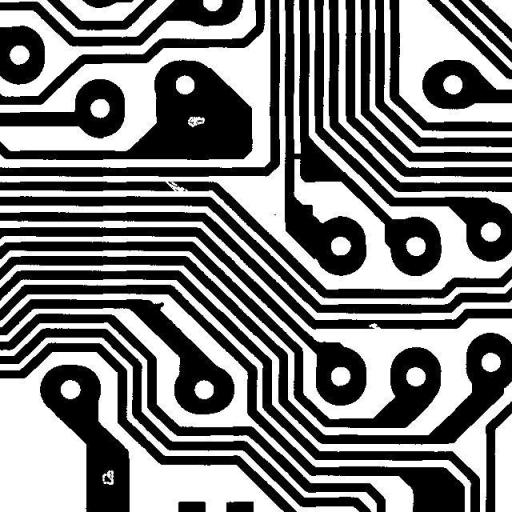mousebite: (361, 315, 388, 337)
open: (157, 170, 195, 200)
pin-hole: (94, 462, 121, 492), (180, 109, 212, 134)
short: (284, 146, 311, 166)
spur: (146, 294, 172, 318)
